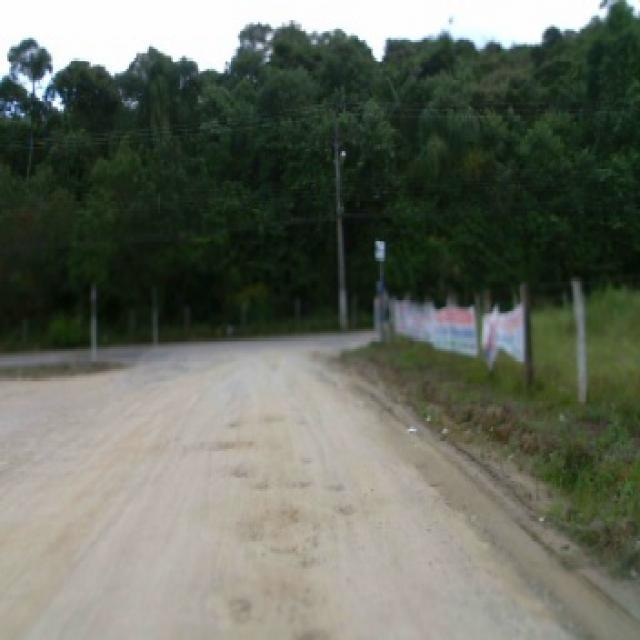Poth-hole: (243, 502, 320, 569), (217, 591, 254, 625), (192, 436, 248, 454), (231, 462, 256, 478), (289, 626, 326, 636), (332, 500, 354, 516), (326, 480, 346, 491), (291, 478, 313, 487), (258, 413, 284, 420), (251, 480, 271, 489), (224, 420, 236, 427), (298, 456, 311, 462)
